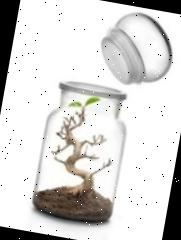glass: (28, 73, 136, 230), (95, 5, 181, 91)
